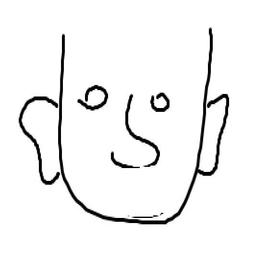empty_eye: (78, 81, 112, 111), (147, 88, 174, 115)
large_ear: (15, 88, 64, 191), (198, 91, 235, 177)
large_nose: (110, 94, 161, 169)
